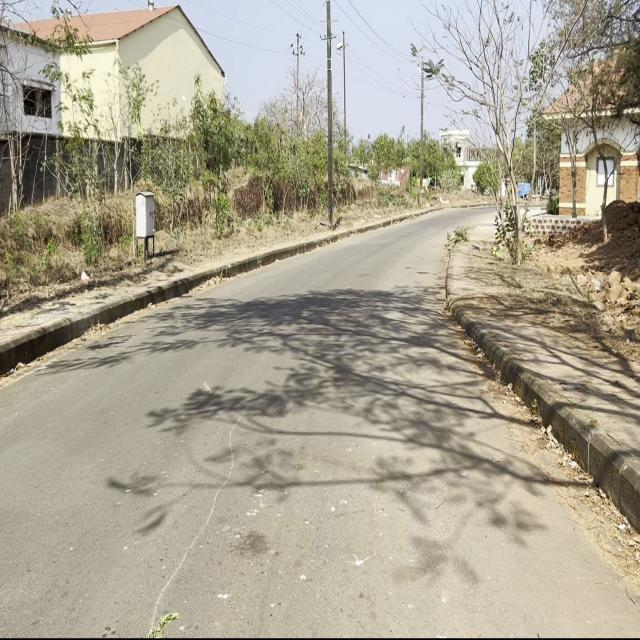Road: (3, 222, 637, 633)
